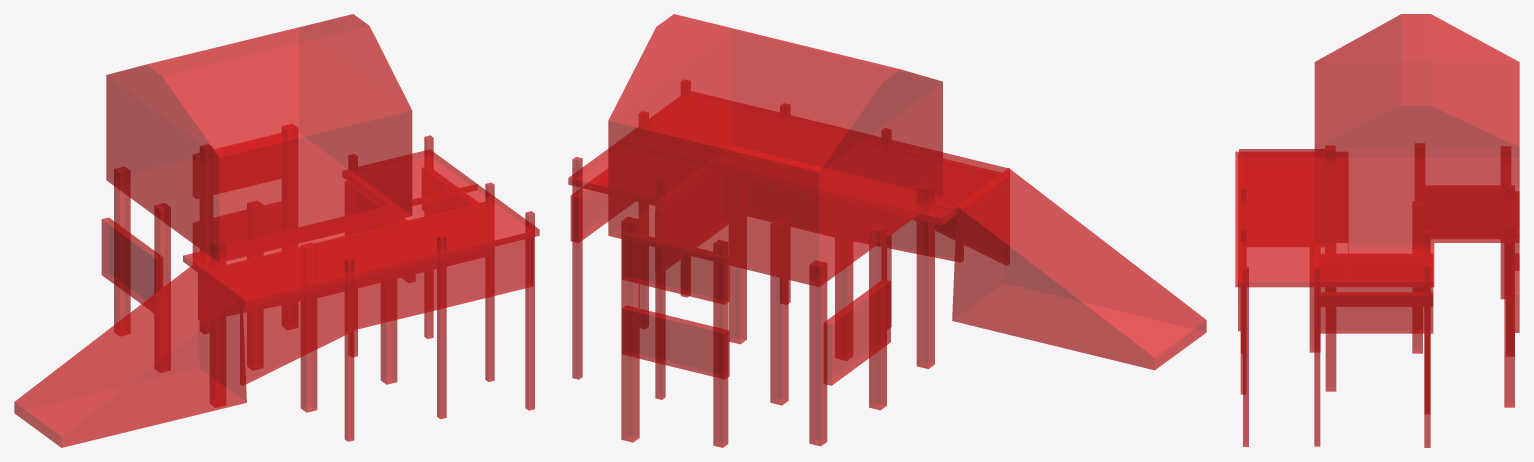
The model's file is SM_Bld_Shanty_Preset_07_Collision.fbx.
3 renders of one model, left to right at view 1: azimuth 30°, elevation 25°; view 2: azimuth 150°, elevation 25°; view 3: azimuth 270°, elevation 25°, orthographic. The views are drawn at different scales.
Visible parts, largest first — view 1: SM_Bld_Shanty_Preset_07_Collision; view 2: SM_Bld_Shanty_Preset_07_Collision; view 3: SM_Bld_Shanty_Preset_07_Collision.
Boxes of the visible parts, x1,y1,x2,y2 form: SM_Bld_Shanty_Preset_07_Collision: [14, 14, 539, 447]; SM_Bld_Shanty_Preset_07_Collision: [568, 14, 1206, 447]; SM_Bld_Shanty_Preset_07_Collision: [1235, 14, 1519, 447].
Size of the model in its own units: 1238 by 844 by 706.
